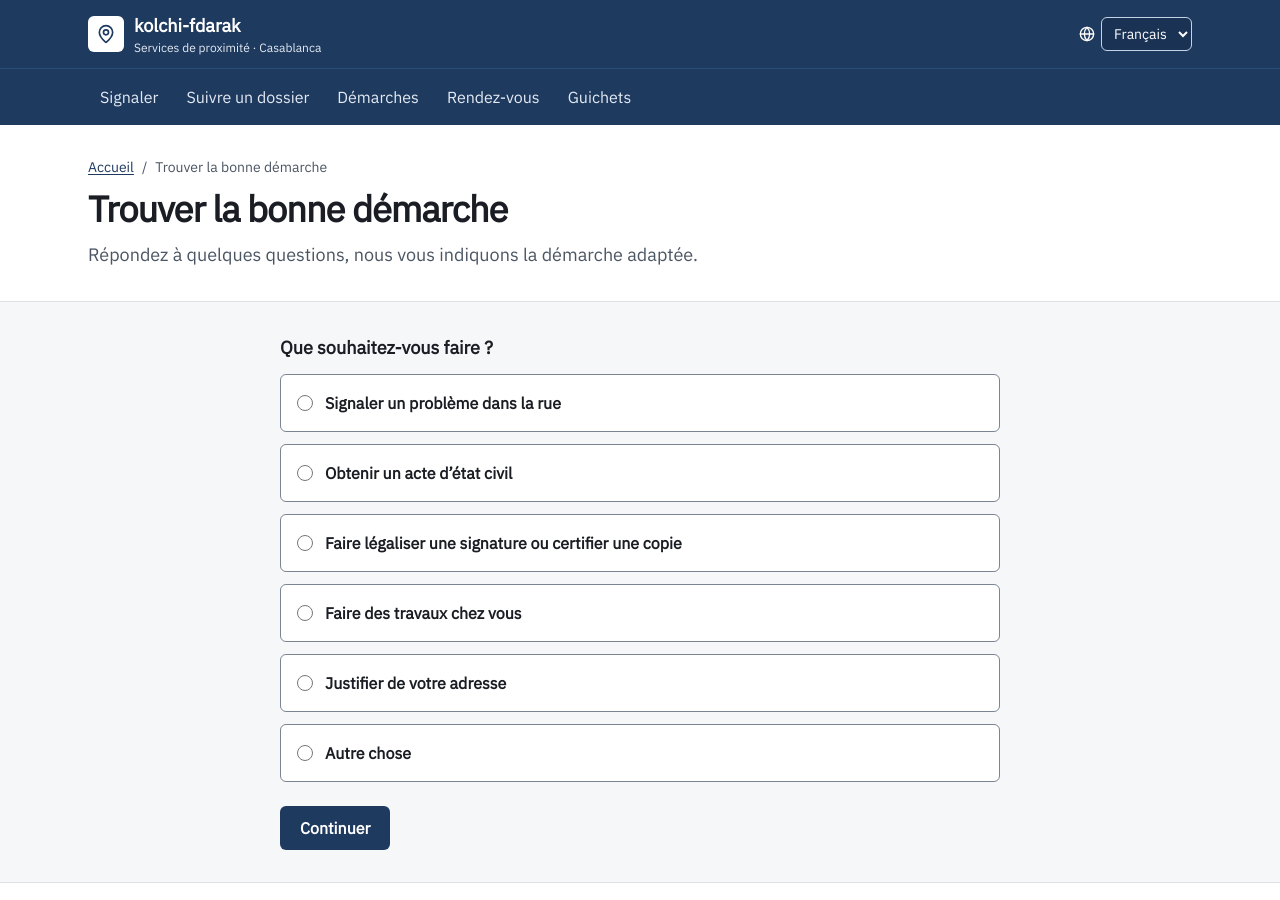
Test: orientation › demande une réponse avant de continuer
This screenshot has width=1280, height=900.
What coordinates should you click on to do the following:
click the button "Continuer"
I would click on:
 (335, 828)
Its box is [280,806,390,850].
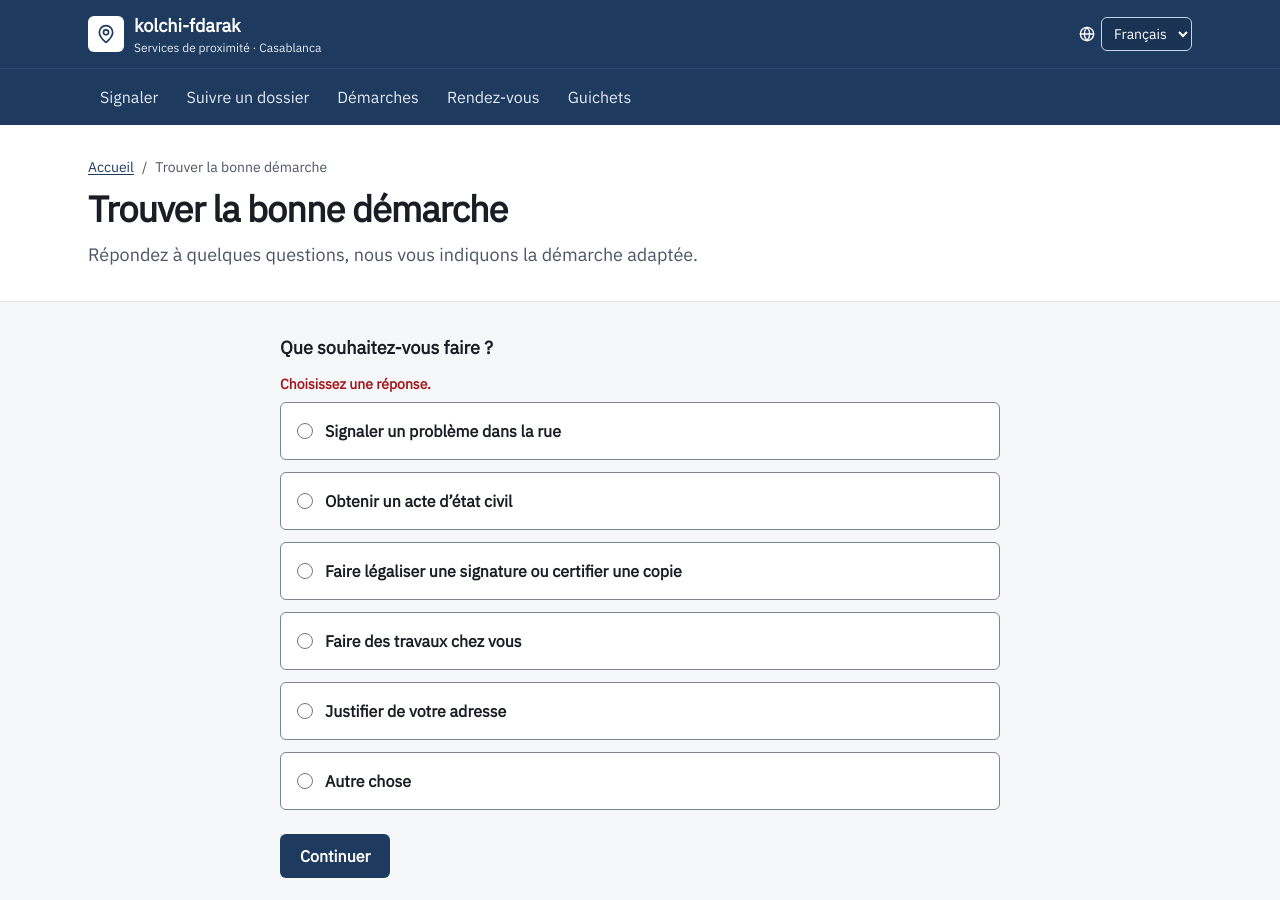
Now the text "Choisissez une réponse." is shown, box [280,375,431,393]
